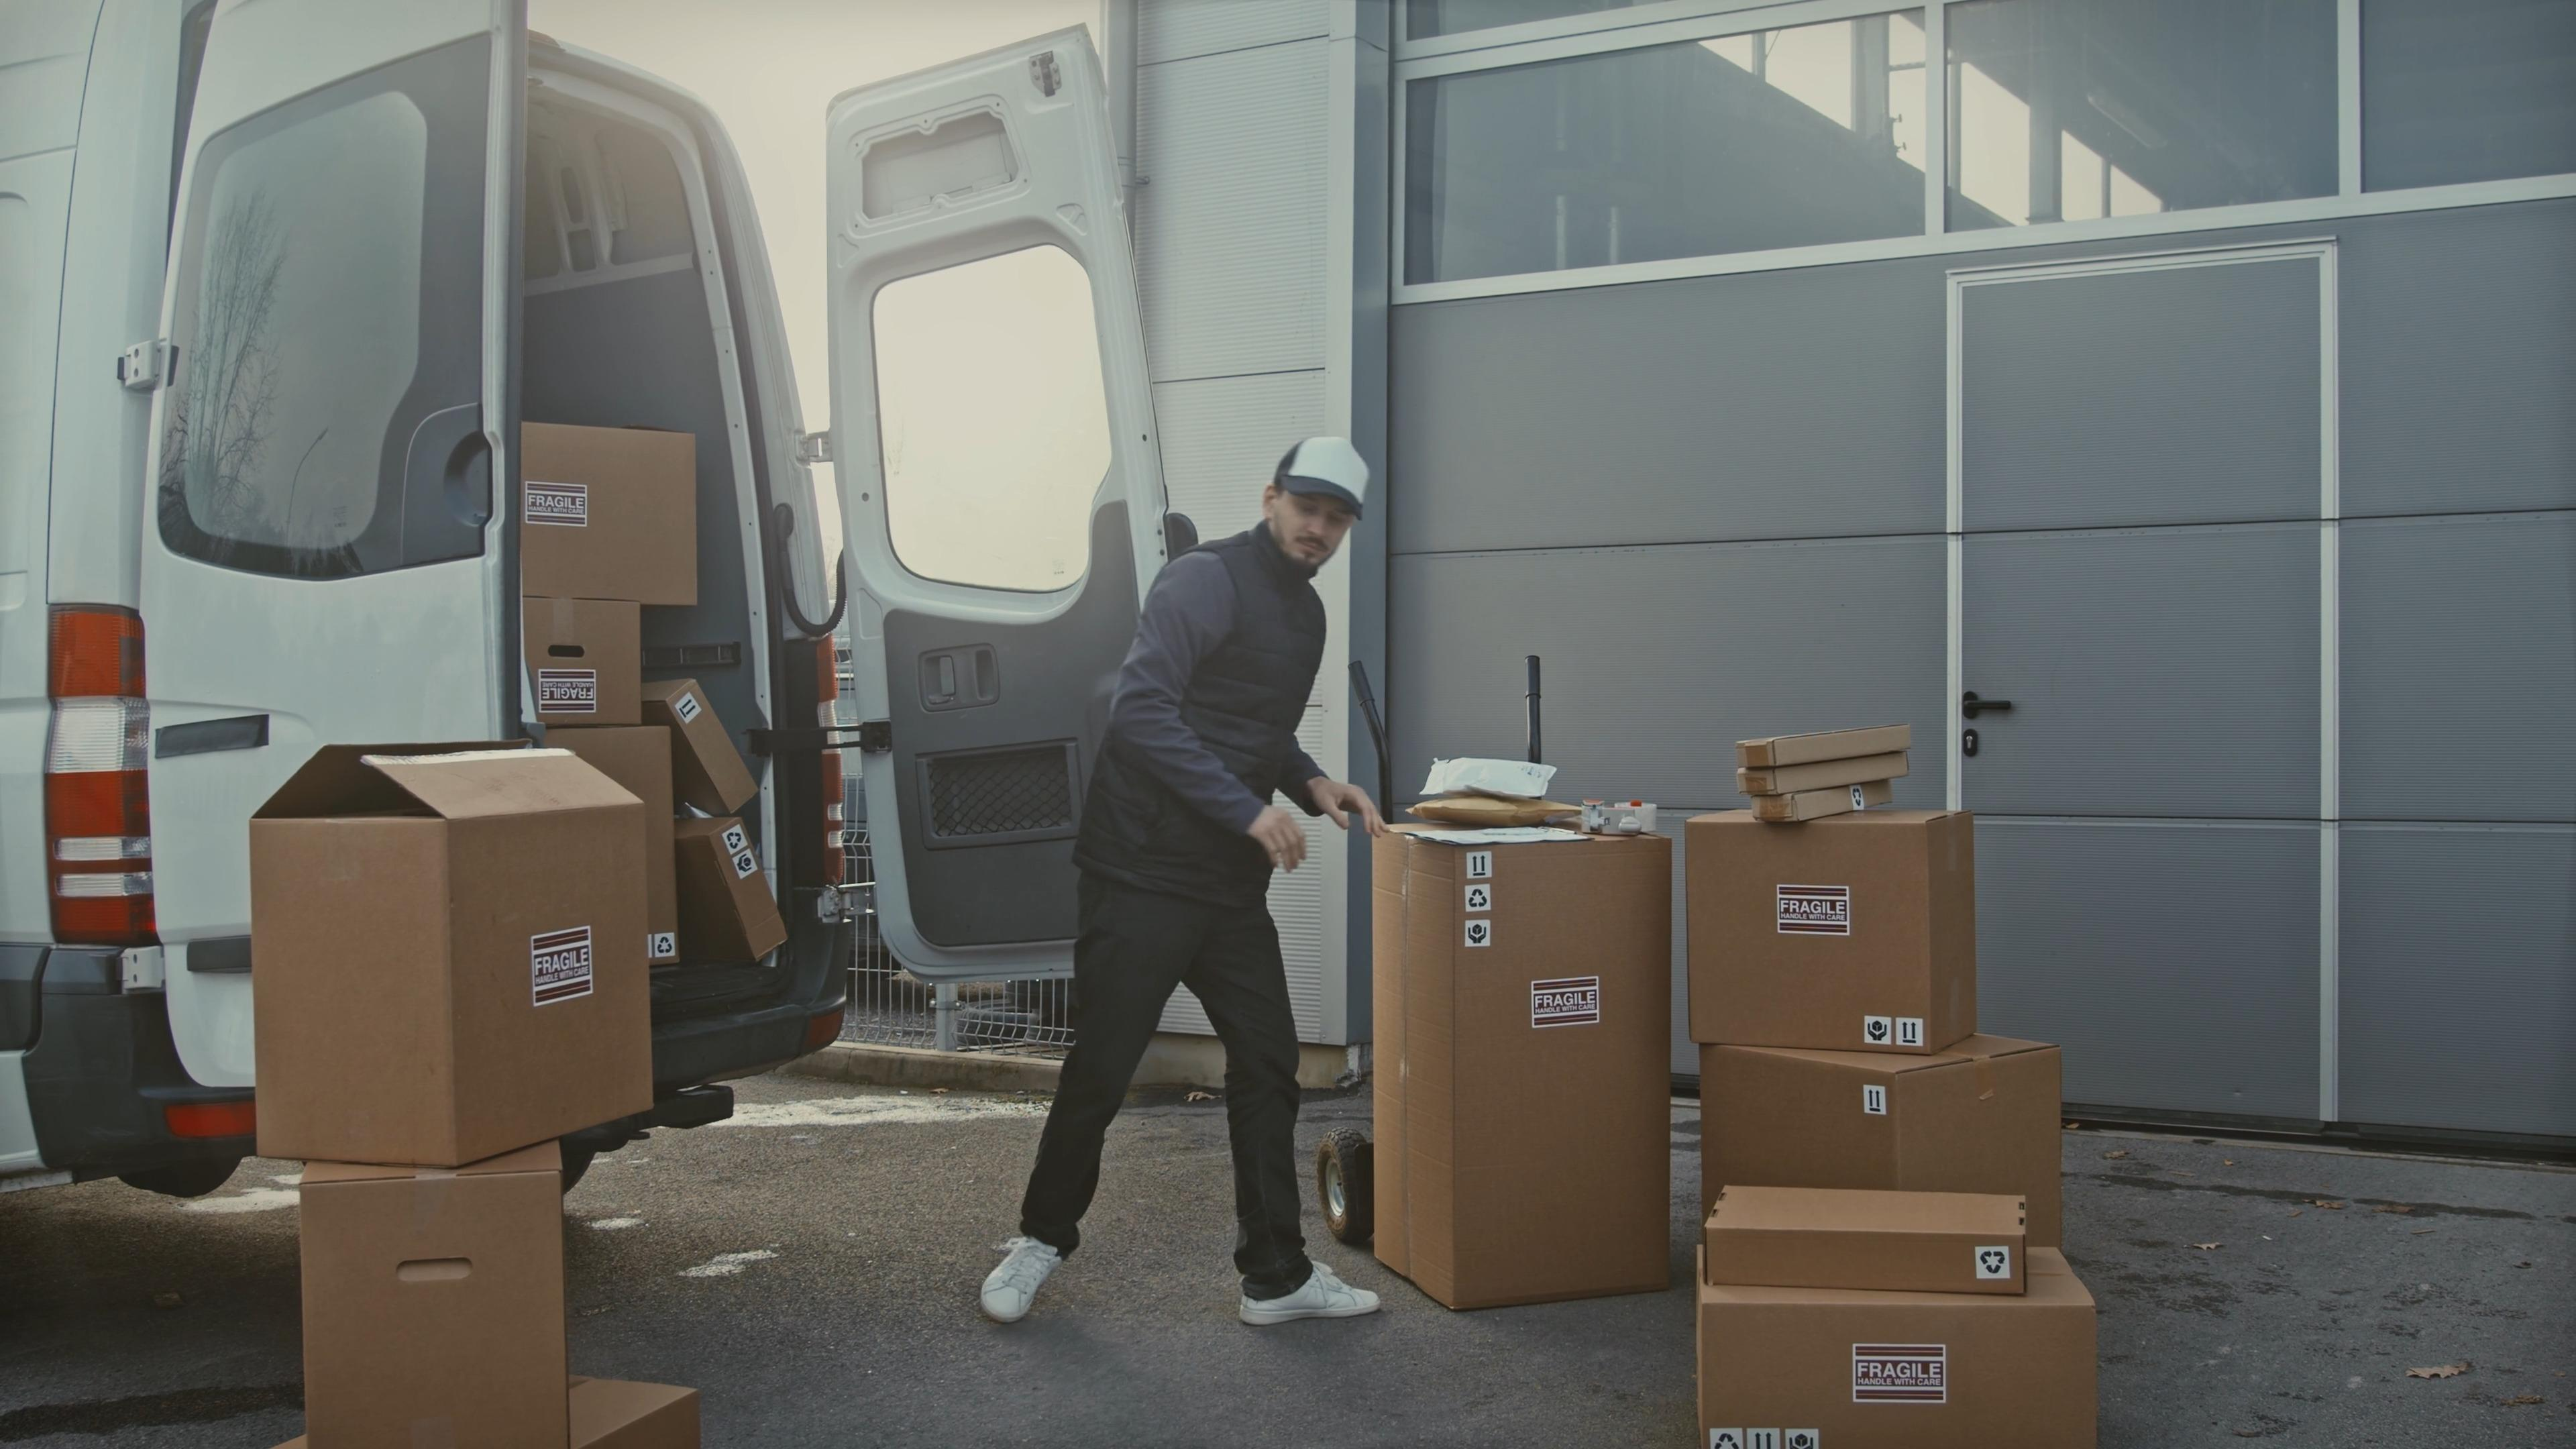-: (235, 741, 649, 1169), (1385, 816, 1679, 1309), (1711, 1053, 2088, 1274), (317, 1178, 612, 1449), (1707, 1265, 2109, 1449), (1697, 821, 1985, 1070), (1711, 1182, 2051, 1300), (534, 416, 734, 602), (534, 598, 665, 732), (734, 812, 828, 959), (702, 681, 789, 814), (1748, 736, 1936, 773), (1748, 777, 1927, 809), (1757, 803, 1886, 835)
